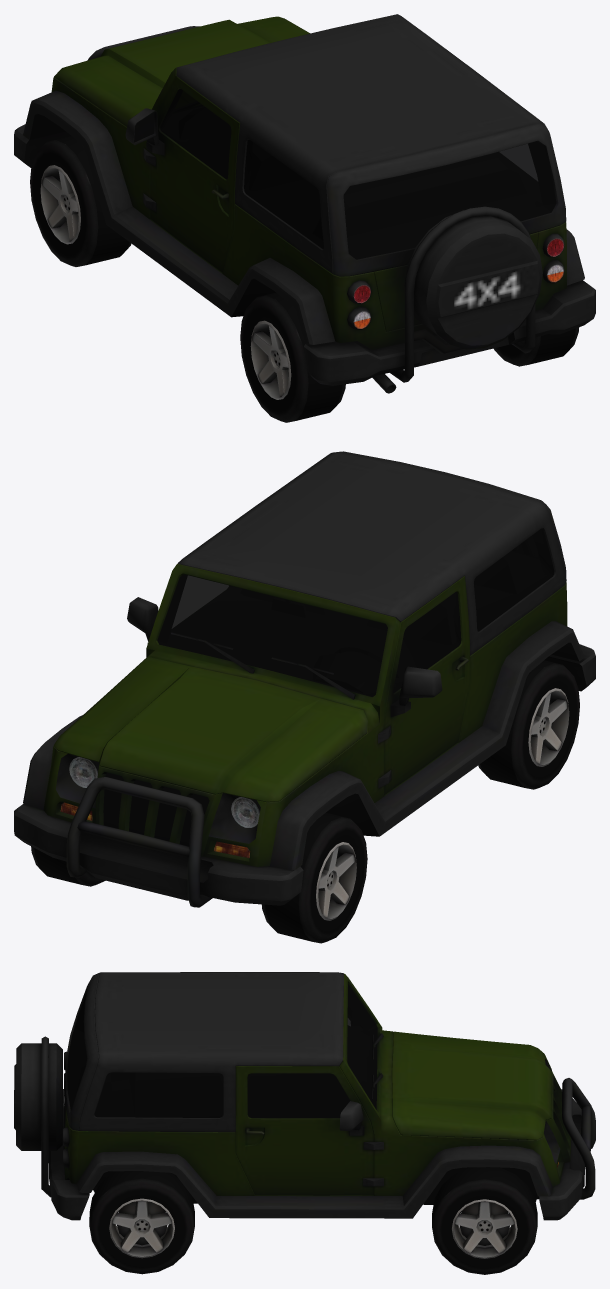
Rendered from c_offroad.glb.
3 views of the same model, one above another, from view 1: azimuth 30°, elevation 25°; view 2: azimuth 150°, elevation 25°; view 3: azimuth 270°, elevation 25° (orthographic). The views are drawn at different scales.
Visible parts, largest first — view 1: body|Body_3, body|glass, body|Wheel_2, body|Optics_3; view 2: body|Body_3, body|glass, body|Wheel_2, body|Optics_3; view 3: body|Body_3, body|Wheel_2, body|glass.
Boxes of the visible parts, left/top/right/bottom form: body|Body_3: left=14, top=14, right=595, bottom=393; body|glass: left=160, top=89, right=556, bottom=259; body|Wheel_2: left=30, top=135, right=579, bottom=422; body|Optics_3: left=353, top=238, right=563, bottom=328; body|Body_3: left=14, top=451, right=595, bottom=907; body|glass: left=157, top=528, right=554, bottom=696; body|Wheel_2: left=31, top=660, right=579, bottom=943; body|Optics_3: left=60, top=757, right=259, bottom=857; body|Body_3: left=14, top=972, right=595, bottom=1220; body|Wheel_2: left=89, top=1167, right=537, bottom=1274; body|glass: left=67, top=984, right=377, bottom=1118.
Size of the model in its own units: 1.96 by 1.57 by 3.94.
4 materials, 3 textured.
